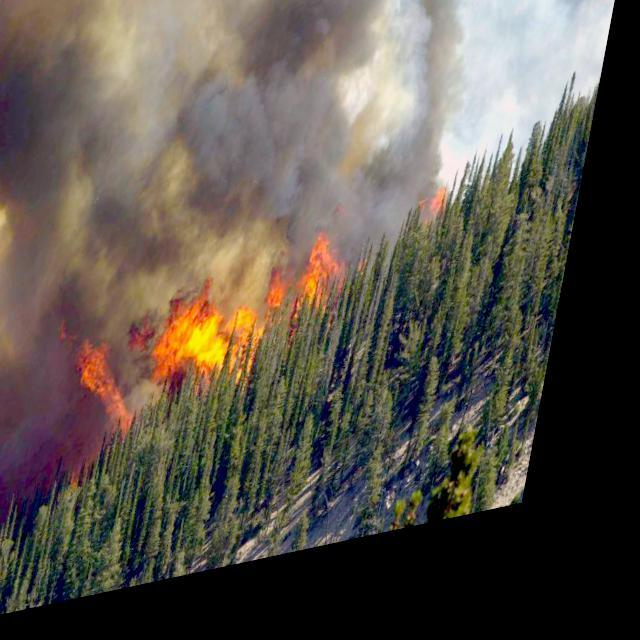Fire: (75, 224, 384, 448), (421, 195, 471, 264)
